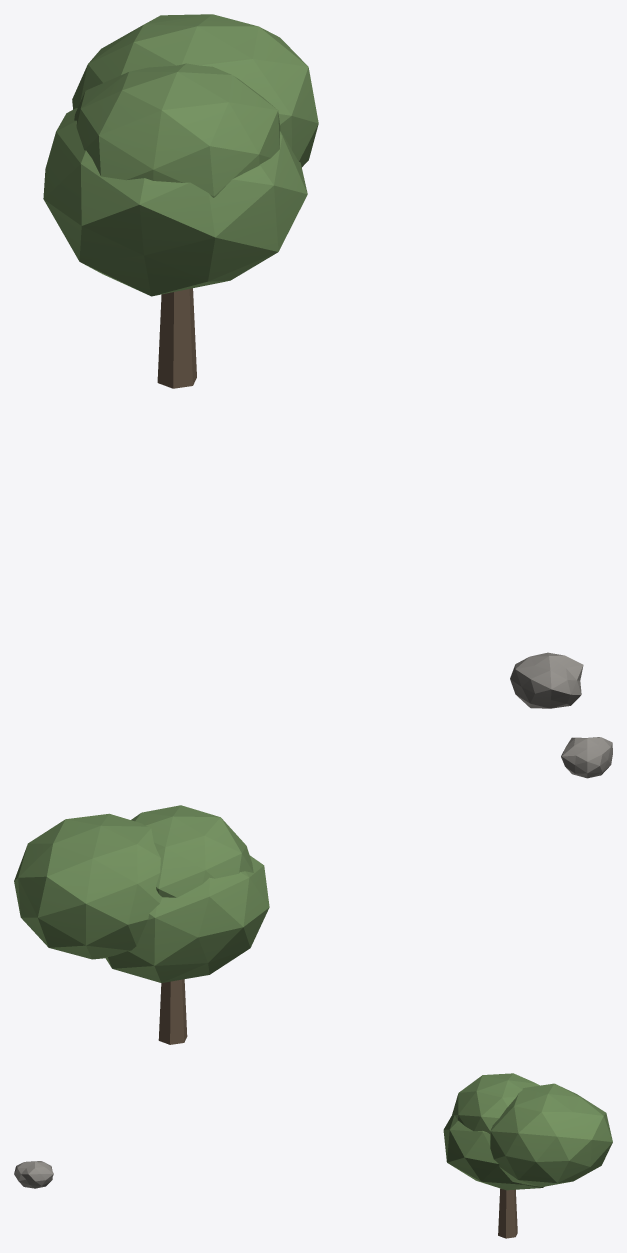
Rendered from arch_land_scatter_c18_16.glb.
3 renders of one model, top to bottom at view 1: azimuth 30°, elevation 25°; view 2: azimuth 150°, elevation 25°; view 3: azimuth 270°, elevation 25°, orthographic. The views are drawn at different scales.
Parts seen in each view (by area): view 1: arch_land_scatter_c18_16; view 2: arch_land_scatter_c18_16; view 3: arch_land_scatter_c18_16.
Boxes of the visible parts, left/top/right/bottom form: arch_land_scatter_c18_16: left=43, top=14, right=583, bottom=708; arch_land_scatter_c18_16: left=14, top=737, right=612, bottom=1044; arch_land_scatter_c18_16: left=14, top=1073, right=612, bottom=1238.
Bounding box in the file's own units: 6.14 × 6.18 × 21.66.
